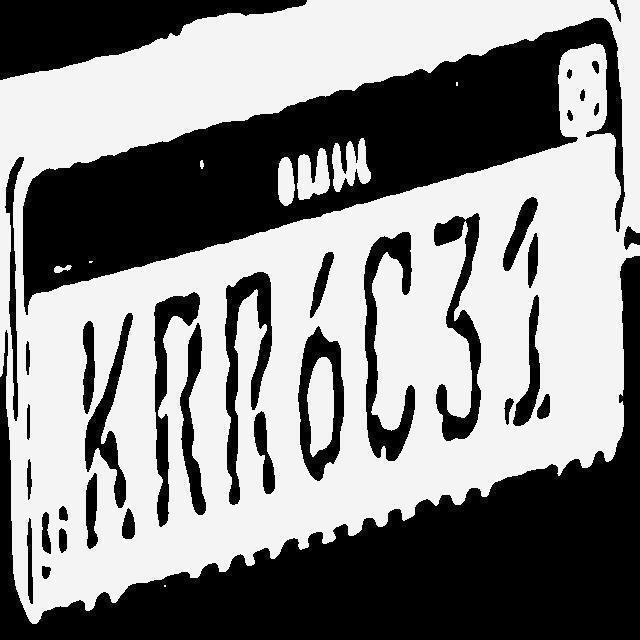1: (502, 195, 553, 432)
3: (428, 210, 484, 444)
6: (296, 247, 348, 483)
c: (366, 230, 418, 462)
k: (76, 308, 136, 552)
r: (224, 266, 278, 508), (154, 288, 207, 534)
